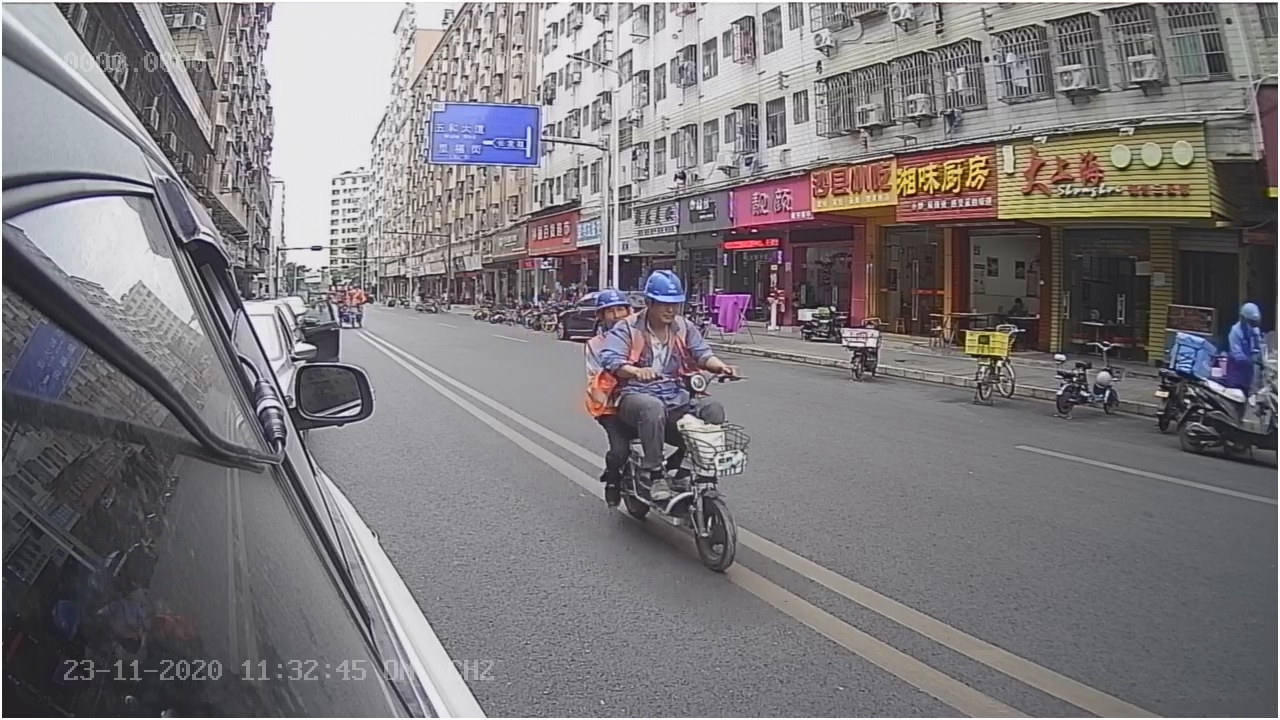person: (602, 266, 723, 380)
